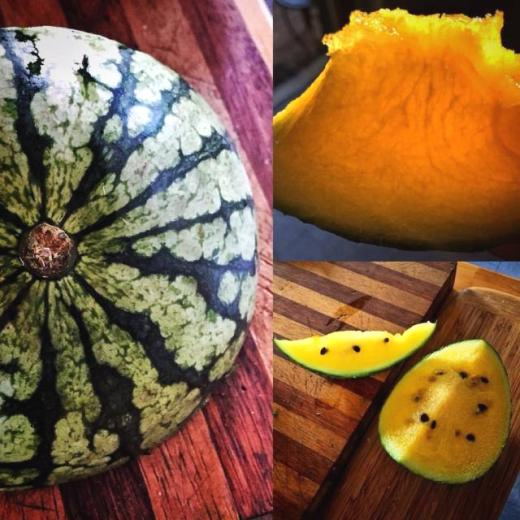Cherry: (0, 24, 254, 493)
